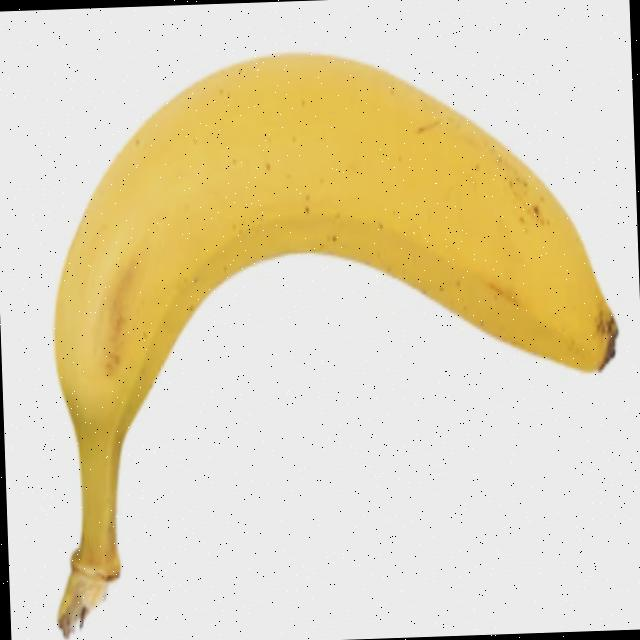Ripe: (39, 35, 630, 562)
